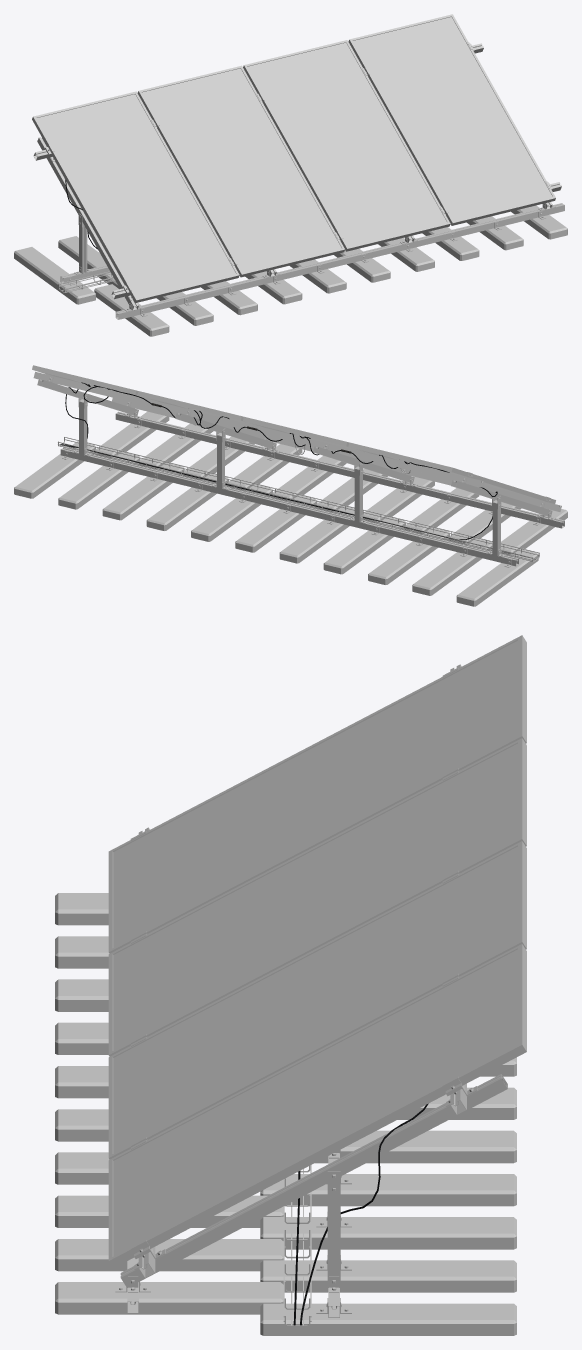
File: 5.1_solar_panels.fbx
3 renders of one model, top to bottom at view 1: azimuth 30°, elevation 25°; view 2: azimuth 150°, elevation 25°; view 3: azimuth 270°, elevation 25°, orthographic. The views are drawn at different scales.
Visible parts, largest first — view 1: solar_panel1, solar_panel3, solar_panel2, solar_panel4, solar_panel_mount, cable_tray; view 2: solar_panel_mount, cable_tray, solar_panel1, solar_panel3, solar_panel2, solar_panel4, cable.002; view 3: solar_panel_mount, solar_panel4, solar_panel2, solar_panel1, solar_panel3, cable_tray.
Boxes of the visible parts, x1,y1,x2,y2 form: solar_panel1: (32, 91, 239, 302); solar_panel3: (243, 40, 450, 251); solar_panel2: (137, 65, 344, 277); solar_panel4: (348, 14, 555, 225); solar_panel_mount: (14, 43, 567, 336); cable_tray: (58, 271, 115, 293); solar_panel_mount: (14, 371, 567, 606); cable_tray: (58, 437, 539, 562); solar_panel1: (348, 442, 555, 503); solar_panel3: (137, 391, 257, 425); solar_panel2: (243, 416, 363, 451); solar_panel4: (32, 365, 150, 399); cable.002: (62, 443, 497, 539); solar_panel_mount: (55, 664, 516, 1335); solar_panel4: (108, 944, 526, 1268); solar_panel2: (108, 738, 526, 1056); solar_panel1: (108, 635, 526, 953); solar_panel3: (108, 841, 526, 1159); cable_tray: (283, 1165, 311, 1327).
Bounding box in the file's own units: 4.6 × 1.25 × 1.98.
